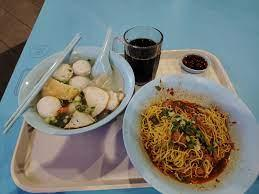Braised Crucian Carp: (122, 74, 257, 193), (18, 44, 134, 135)
